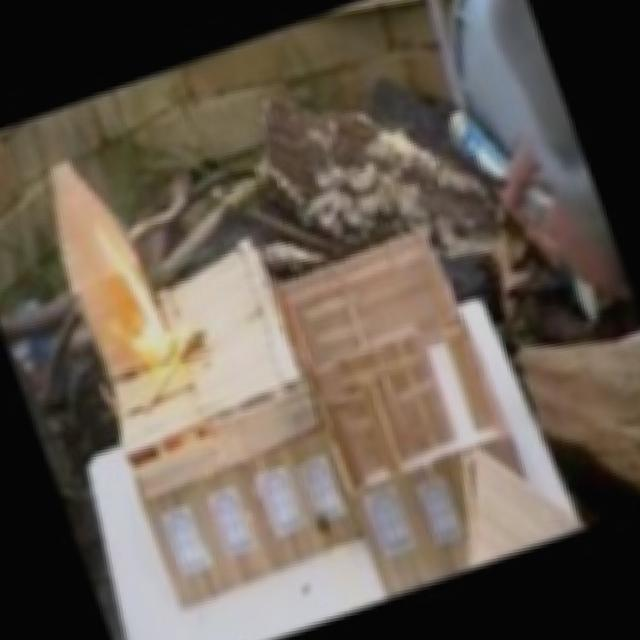fire: (54, 222, 197, 393)
